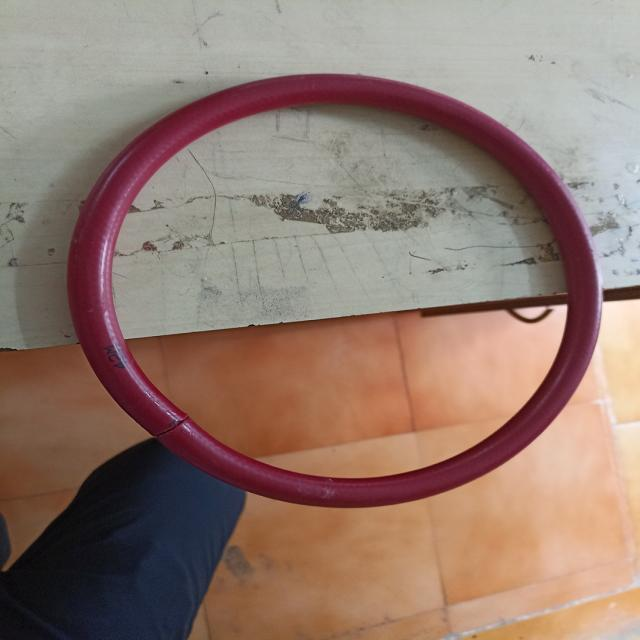daire: (77, 76, 597, 514)
